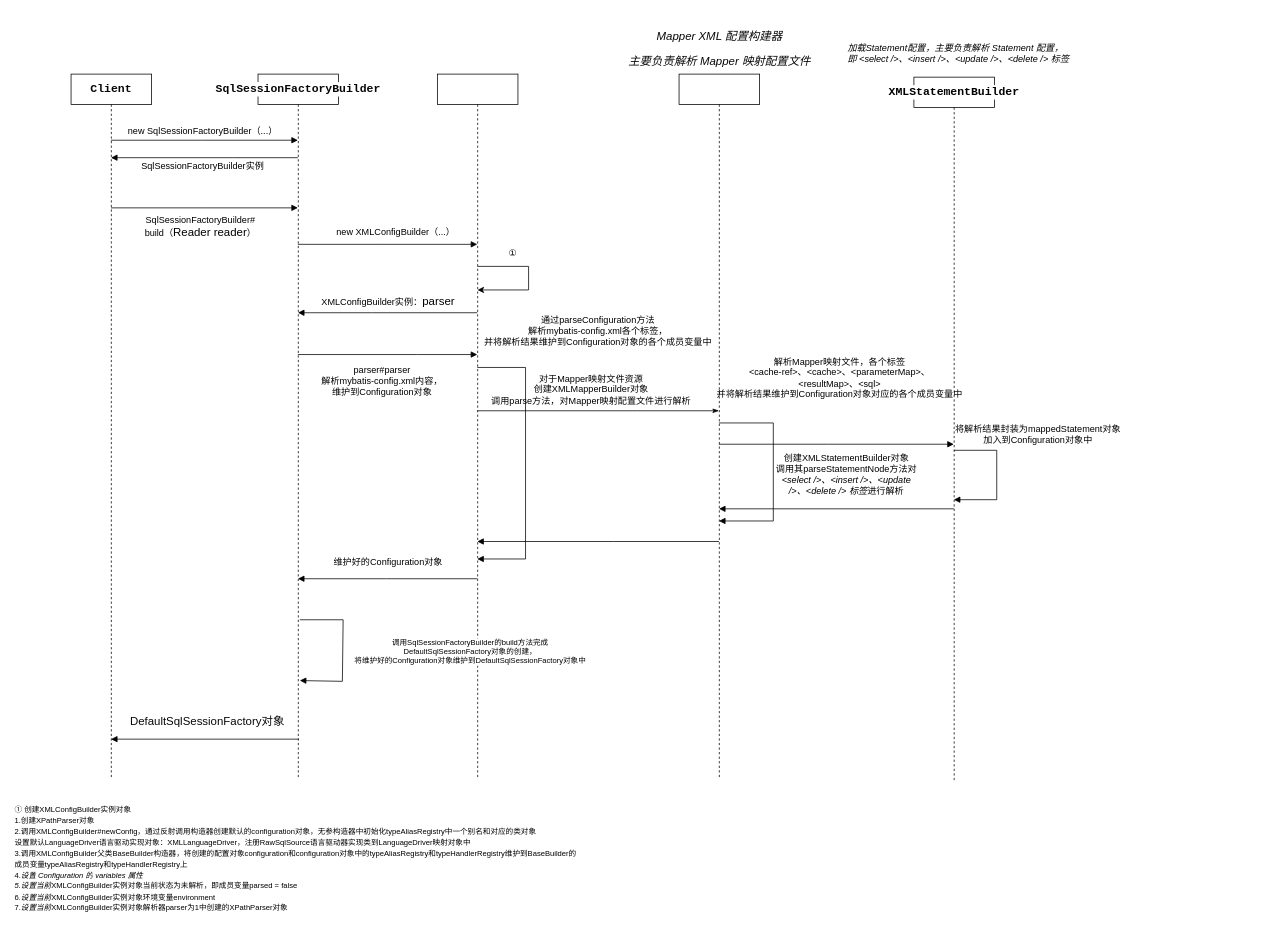
Image size: 1277x930. Some labels were removed from this diagram. The box of each missing label's shape, as (x1, y1, x2, y2) in pixels:
XMLConfigBuilder: (437, 73, 518, 778)
XMLMapperBuilder: (678, 73, 760, 778)
